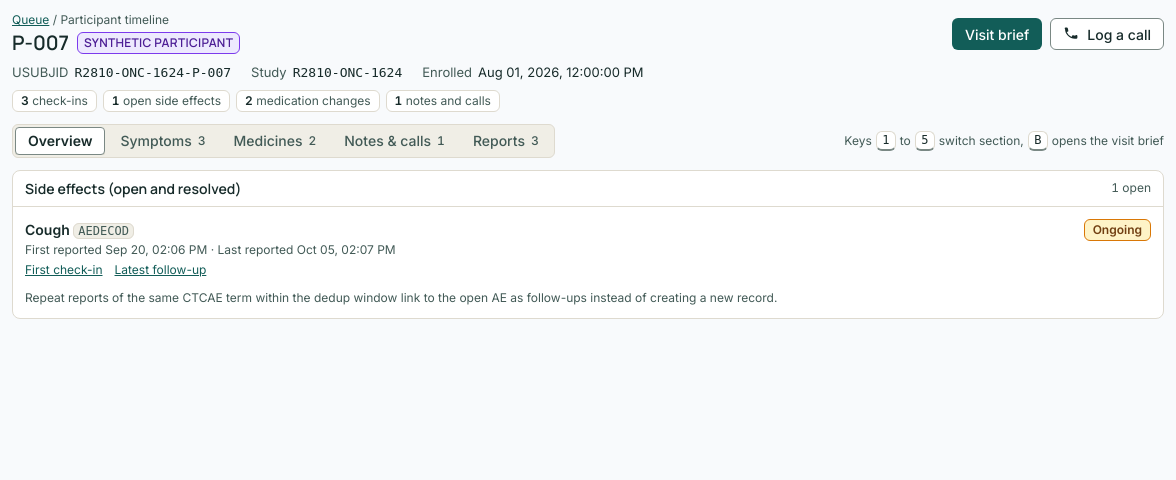
ParticipantTimeline › lists open AEs, con-med changes, chart notes and sessions with tier chips
expect the text "Cough" is shown: met, box left=25, top=221, right=70, bottom=238
expect the text "Ongoing" is shown: met, box left=1084, top=219, right=1151, bottom=241
Click the radio button labelled "Medicines 2" at (275, 141), box left=220, top=127, right=329, bottom=155
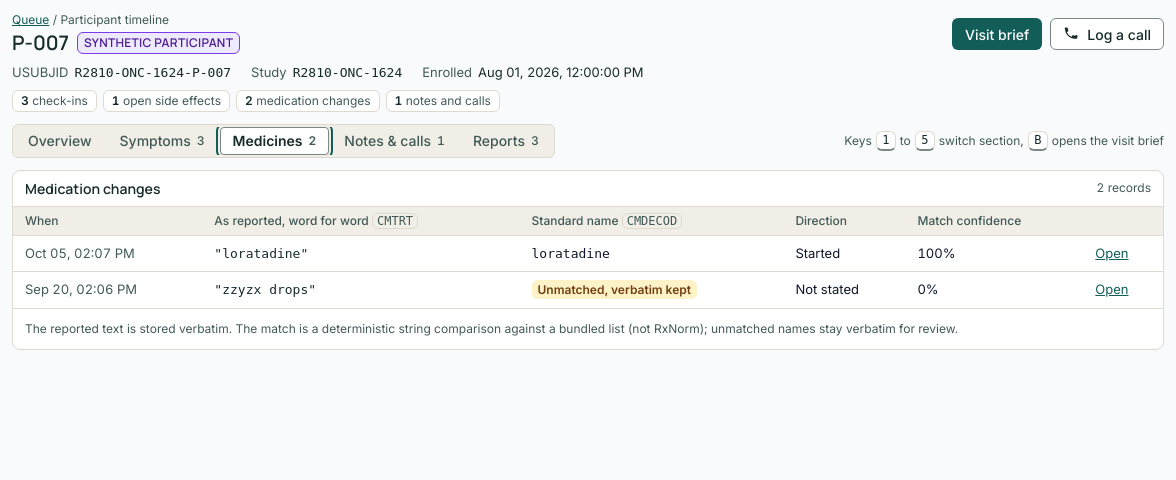
expect the text "\"loratadine\"" is shown: met, box left=202, top=236, right=520, bottom=272
expect the text "Started" is shown: met, box left=783, top=236, right=906, bottom=272
expect the text "100%" is shown: met, box left=905, top=236, right=1083, bottom=272
Click the radio button labelled "Notes & calls 1" at (395, 141), box left=331, top=127, right=458, bottom=155
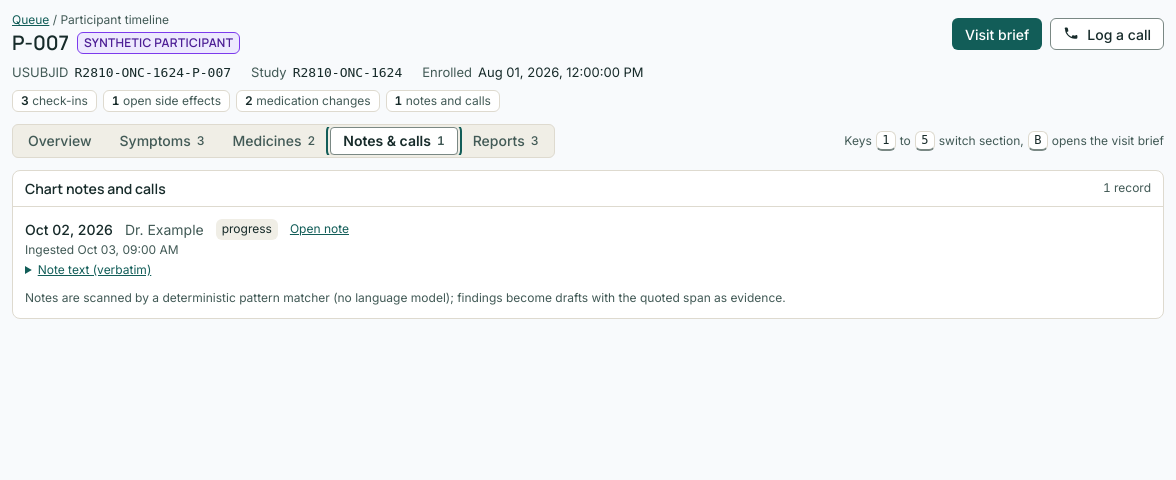
expect the text "Dr. Example" is shown: met, box left=125, top=219, right=204, bottom=240
expect the text "progress" is shown: met, box left=216, top=219, right=278, bottom=240
Click the radio button labelled "Reports 3" at (506, 141), box left=460, top=127, right=552, bottom=155
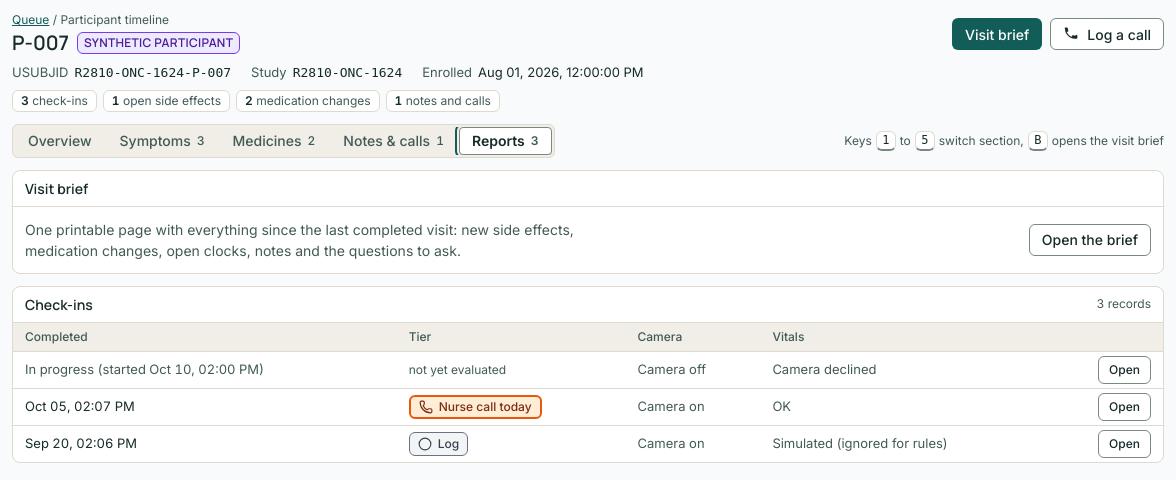
expect the text "In progress (started Oct 10, 02:00 PM)" is shown: met, box left=25, top=361, right=264, bottom=377
expect the text "not yet evaluated" is shown: met, box left=409, top=362, right=506, bottom=377
expect the text "Camera off" is shown: met, box left=626, top=352, right=760, bottom=389
